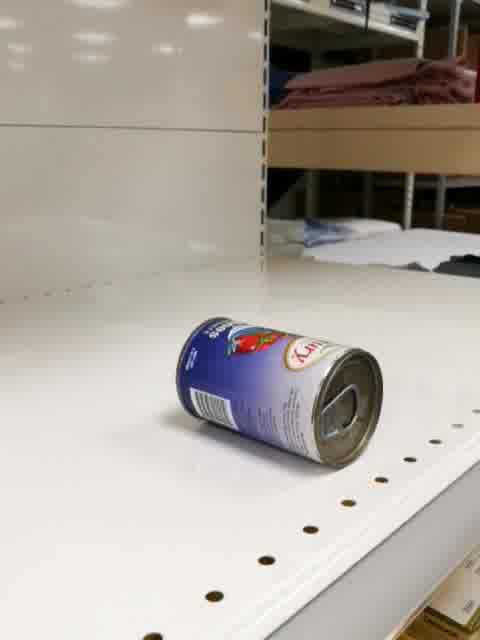sardine: (173, 315, 384, 470)
